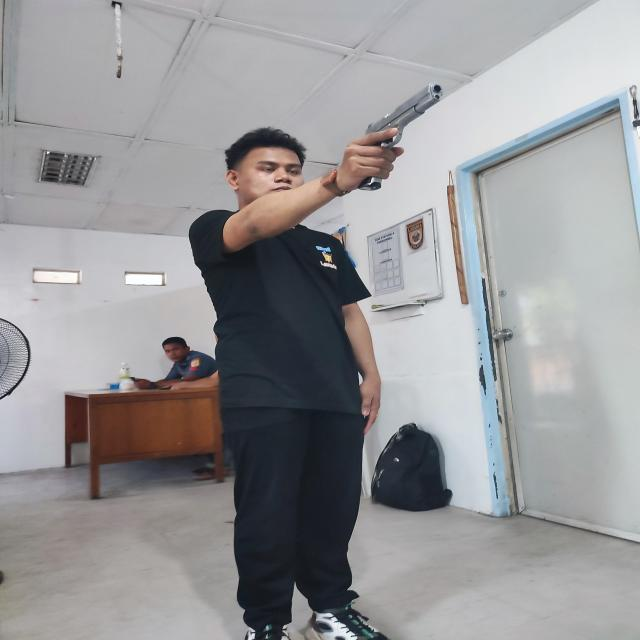pistol: (358, 83, 442, 191)
